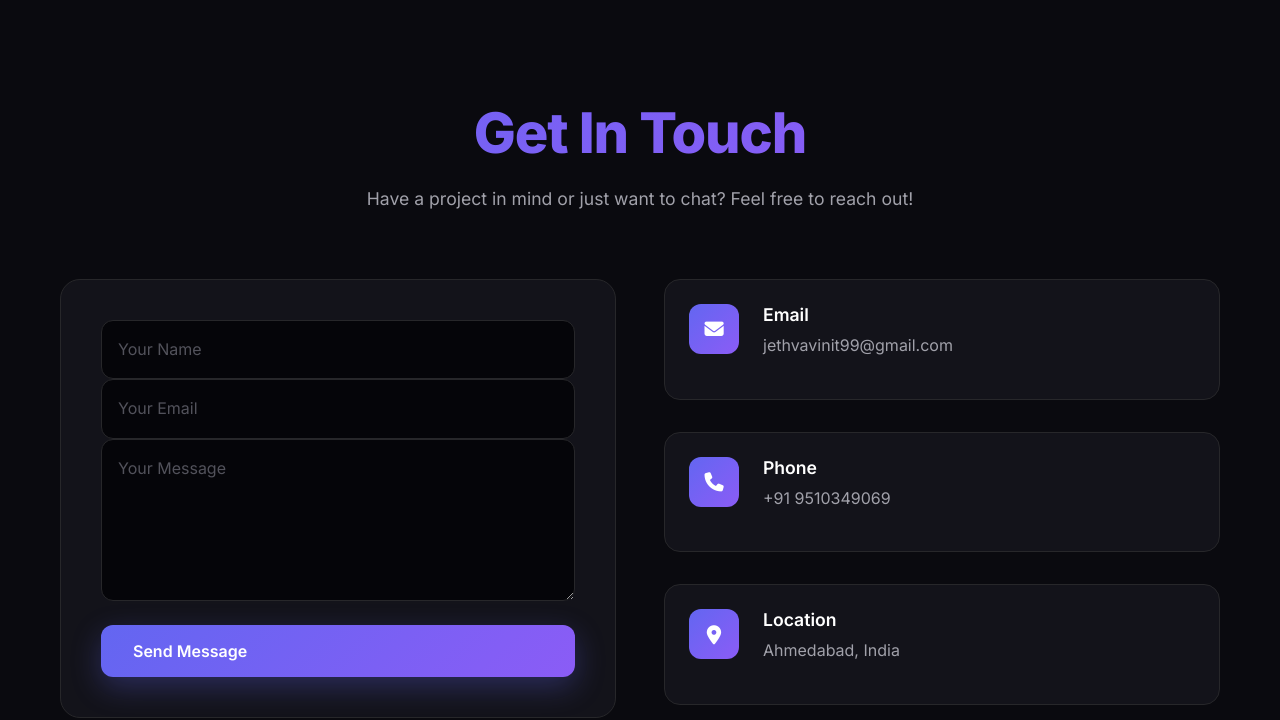
Test: Contact Component › handles form submission error
The width and height of the screenshot is (1280, 720).
Type "John Doe" into the field with placeholder "Your Name" at (338,350), box [101,320,575,379]
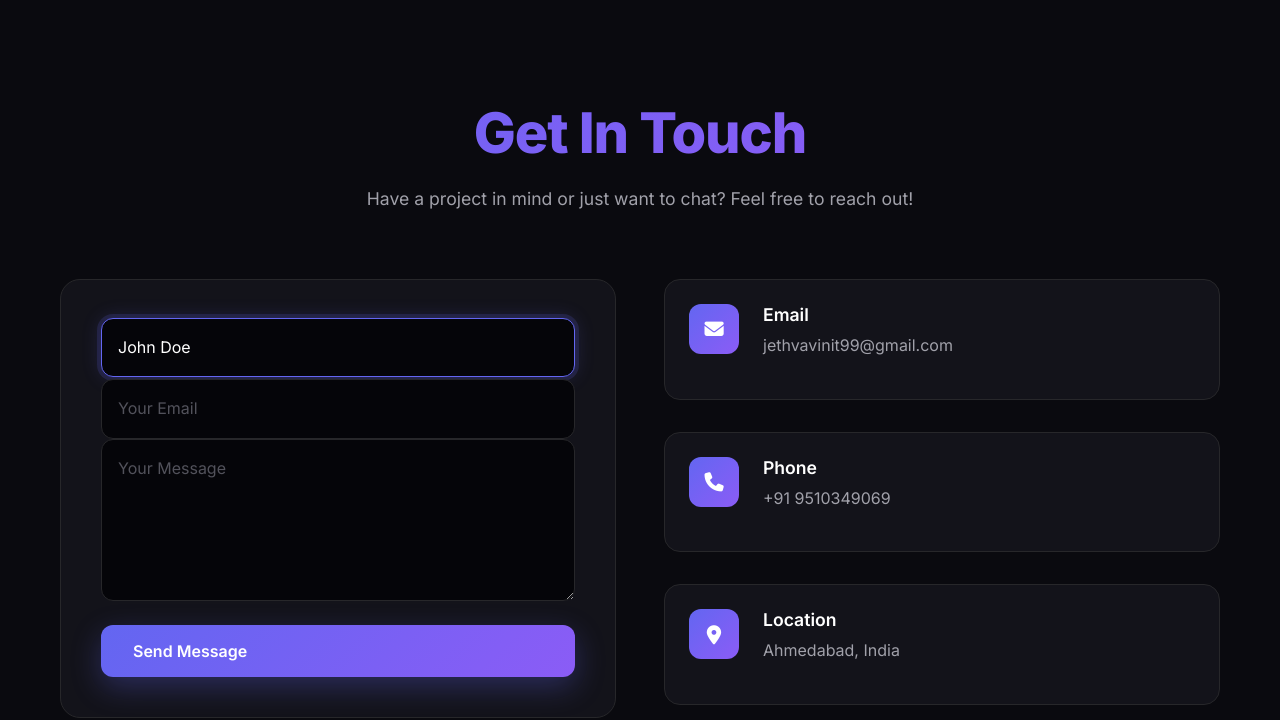
Type "john@example.com" into the field with placeholder "Your Email" at (338,409), box [101,379,575,439]
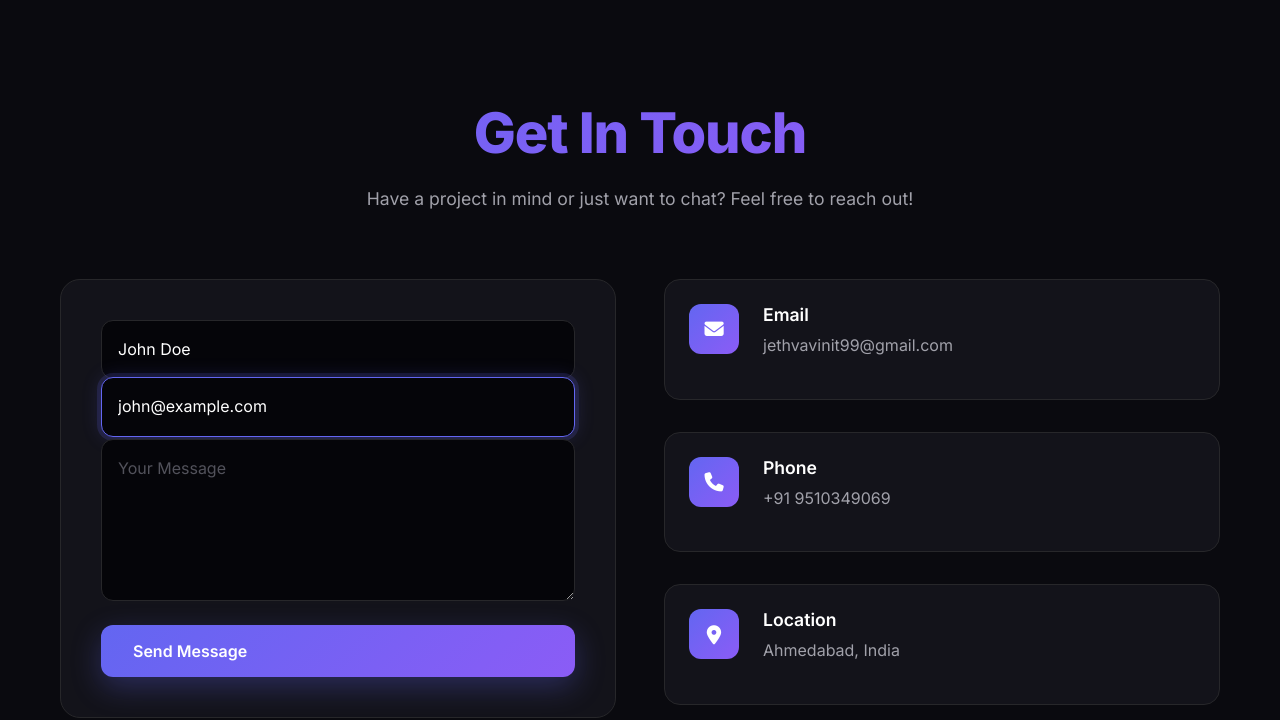
Type "Test message" into the text box with placeholder "Your Message" at (338,520), box [101,439,575,601]
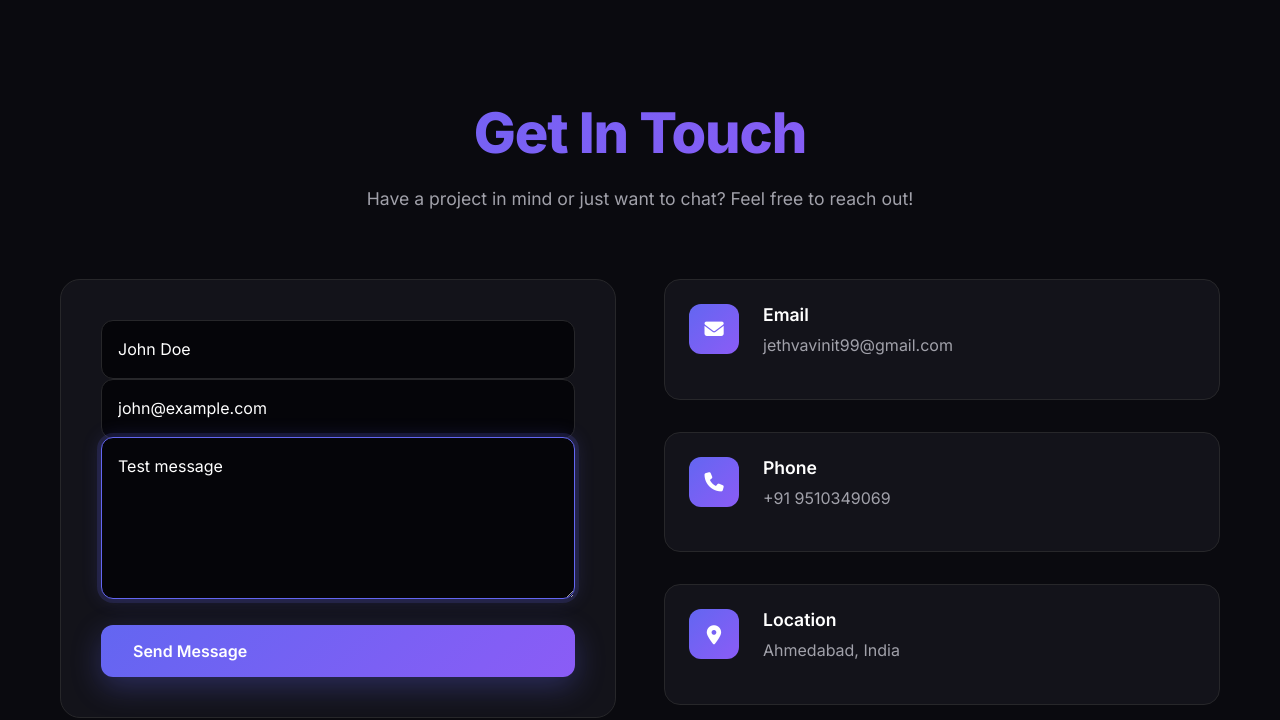
Click the button "Send Message" at (190,651), box [101,625,575,677]
(page scrolled)
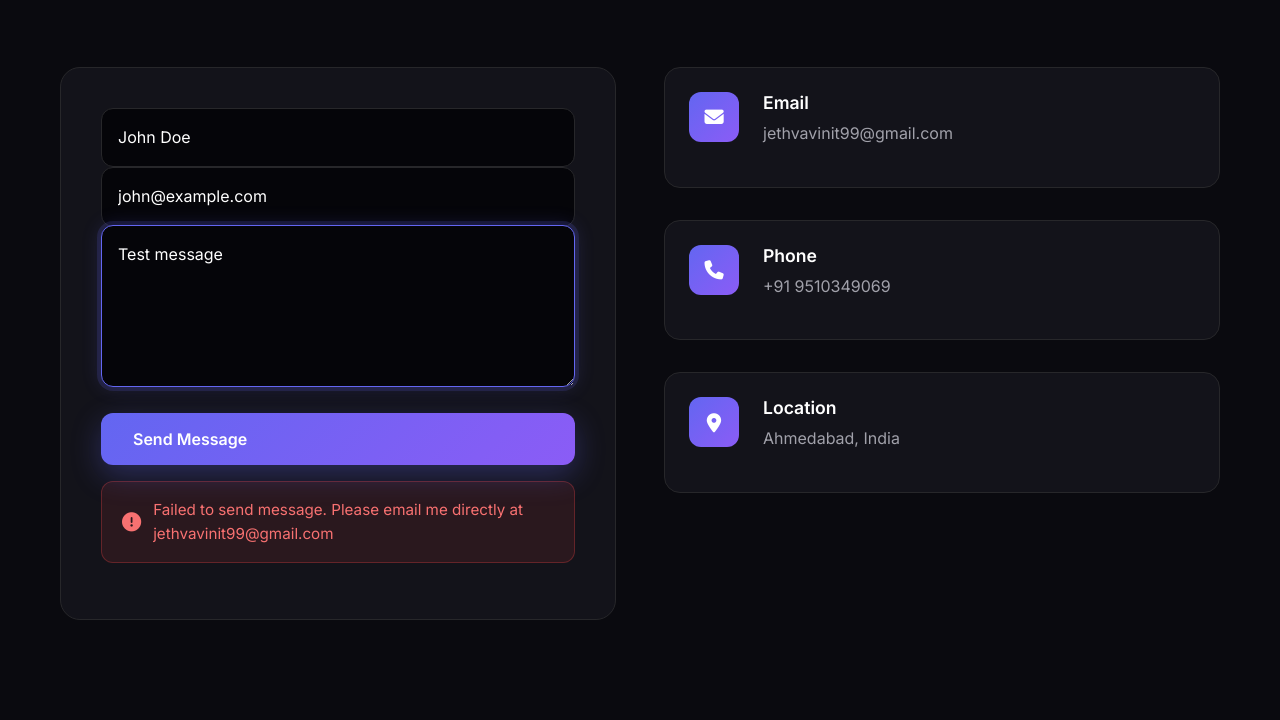
expect the text "Failed to send message" is shown: met, box [153,500,523,543]
